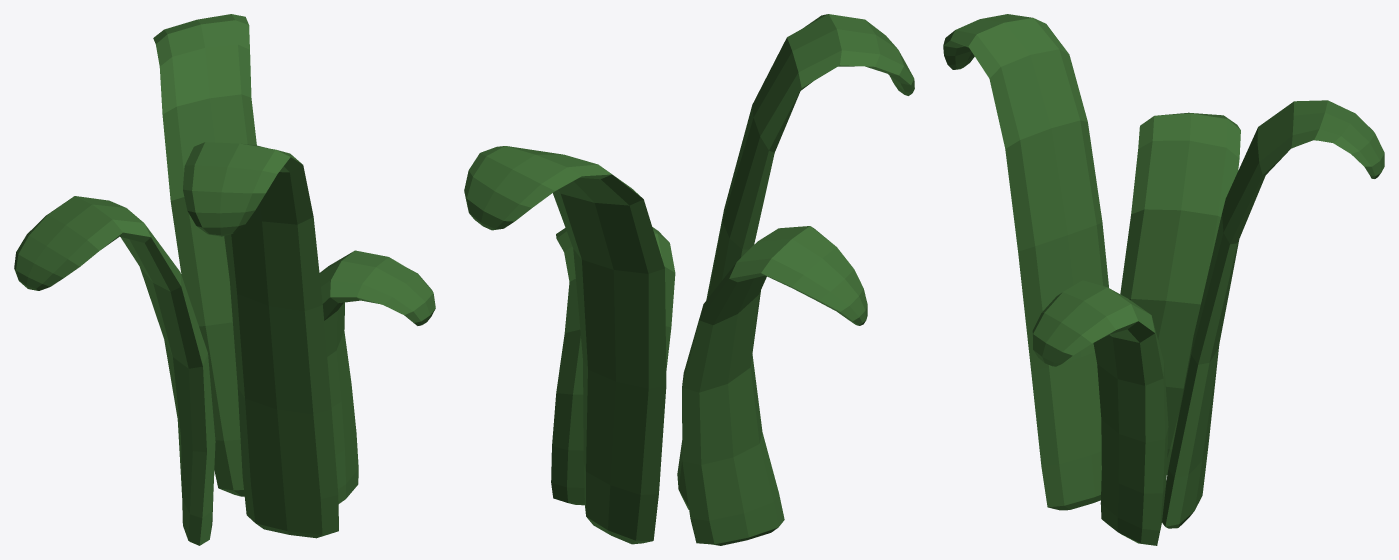
Rendered from grass3.gltf.
3 renders of one model, left to right at view 1: azimuth 30°, elevation 25°; view 2: azimuth 150°, elevation 25°; view 3: azimuth 270°, elevation 25°, orthographic. The views are drawn at different scales.
Visible parts, largest first — view 1: Cube.006, Cube.007, Cube.008, Cube.005; view 2: Cube.007, Cube.008, Cube.006, Cube.005; view 3: Cube.006, Cube.008, Cube.005, Cube.007.
Part boxes in pixels (left/top/right/bottom): Cube.006: left=183, top=142, right=338, bottom=538; Cube.007: left=153, top=14, right=256, bottom=496; Cube.008: left=14, top=196, right=215, bottom=545; Cube.005: left=319, top=250, right=435, bottom=503; Cube.007: left=464, top=146, right=666, bottom=544; Cube.008: left=682, top=226, right=867, bottom=545; Cube.006: left=677, top=14, right=914, bottom=509; Cube.005: left=551, top=227, right=675, bottom=505; Cube.006: left=943, top=14, right=1108, bottom=510; Cube.008: left=1120, top=112, right=1240, bottom=474; Cube.005: left=1032, top=280, right=1168, bottom=545; Cube.007: left=1162, top=100, right=1384, bottom=528.
Size of the model in its own units: 3.98 by 4.82 by 4.41.
